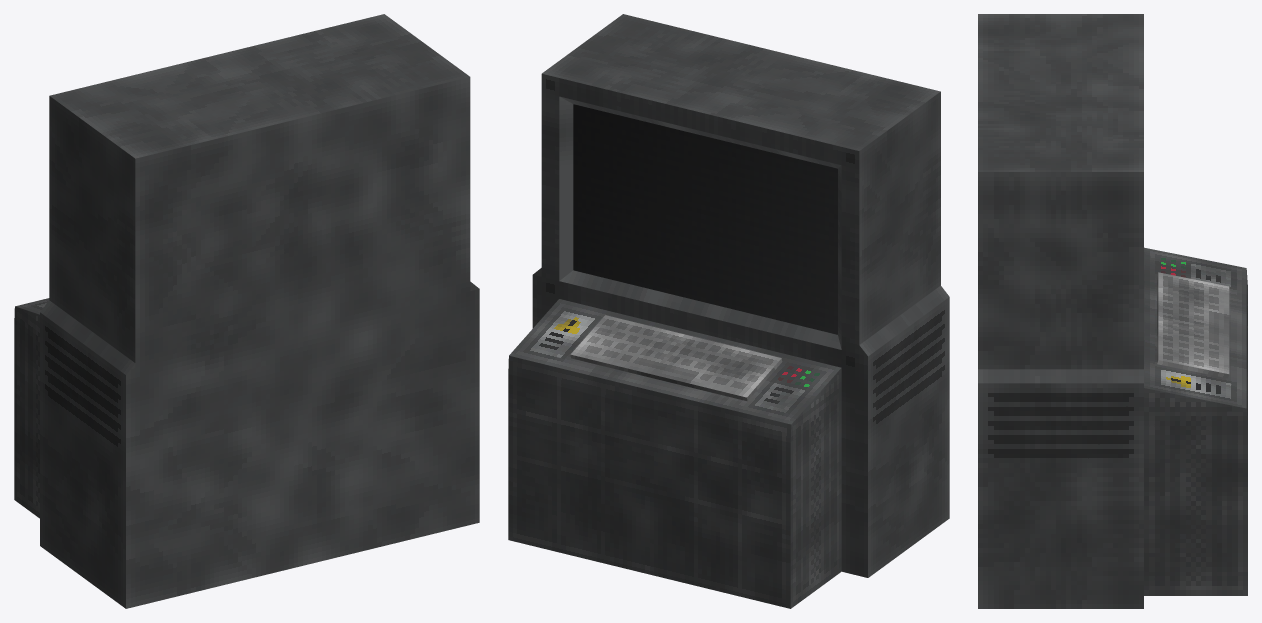
Rendered from bigTerminal.gltf.
The picture shows the model from 3 angles, left to right: view 1: azimuth 30°, elevation 25°; view 2: azimuth 150°, elevation 25°; view 3: azimuth 270°, elevation 25°; orthographic projection. The views are drawn at different scales.
Visible parts, largest first — view 1: screen, station; view 2: screen, station, keyboard; view 3: screen, station, keyboard.
Part boxes in pixels (x1,y1,x2,y2): screen: (40,14,479,608); station: (14,298,49,518); screen: (532,14,949,577); station: (508,299,841,608); keyboard: (570,315,782,401); screen: (978,14,1143,608); station: (1144,247,1247,595); keyboard: (1157,272,1229,378).
Bounding box in the file's own units: 2.38 × 2.88 × 1.62.
Materials: 3 (3 with a texture image).
